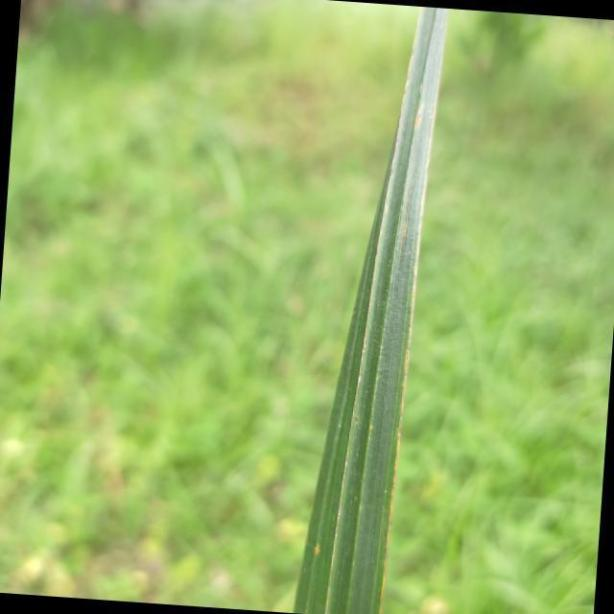Boron: (289, 5, 448, 614)
